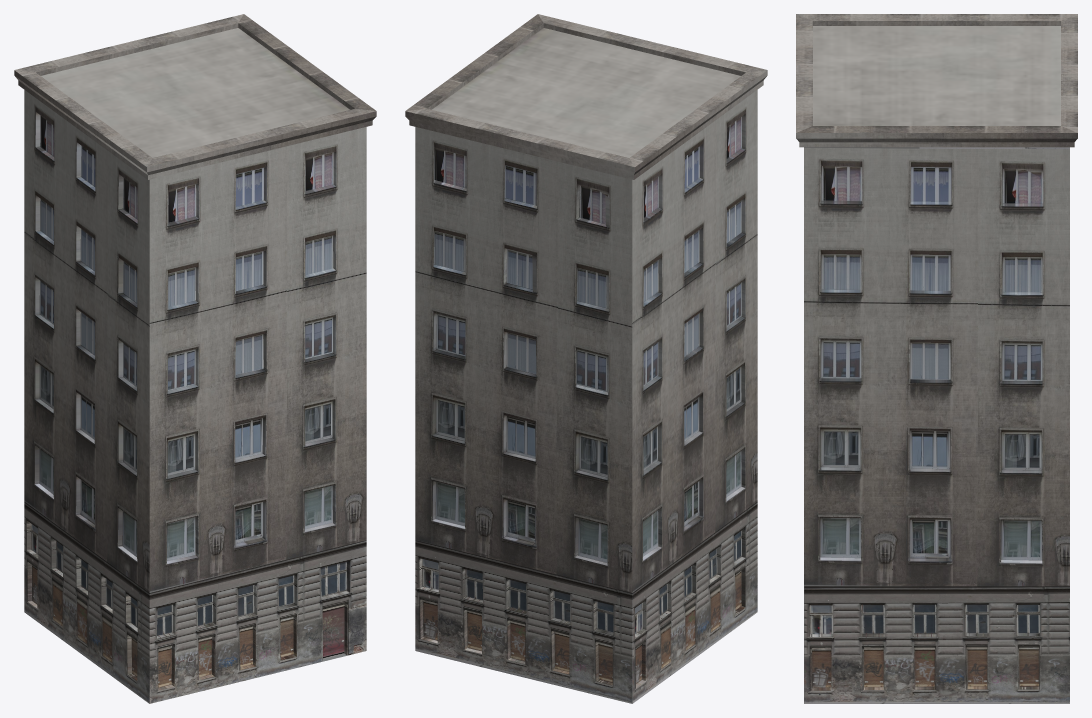
Rendered from edificio_1.glb.
3 views of the same model, side by side, from view 1: azimuth 30°, elevation 25°; view 2: azimuth 150°, elevation 25°; view 3: azimuth 270°, elevation 25° (orthographic). The views are drawn at different scales.
Parts seen in each view (by area): view 1: Material_001-material; view 2: Material_001-material; view 3: Material_001-material.
Boxes of the visible parts, x1,y1,x2,y2 form: Material_001-material: (14,14,376,703); Material_001-material: (405,14,767,703); Material_001-material: (796,14,1077,703).
Size of the model in its own units: 9.25 by 20.79 by 9.25.
1 material, 1 textured.
